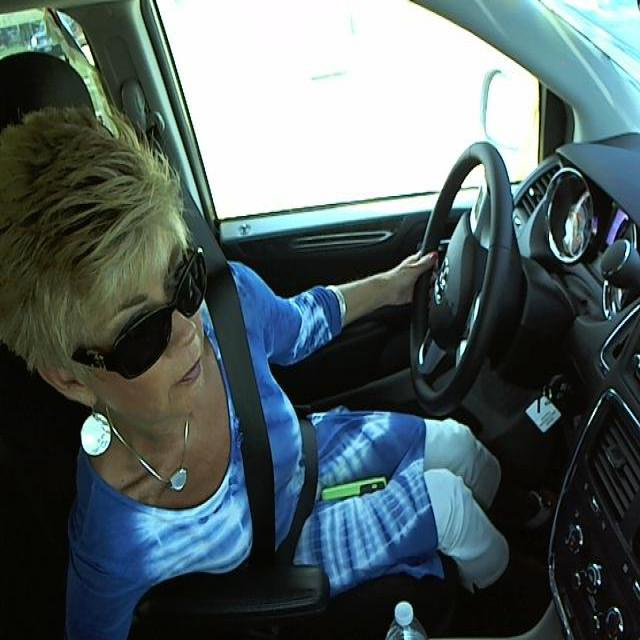seatbelt: (204, 287, 327, 548)
